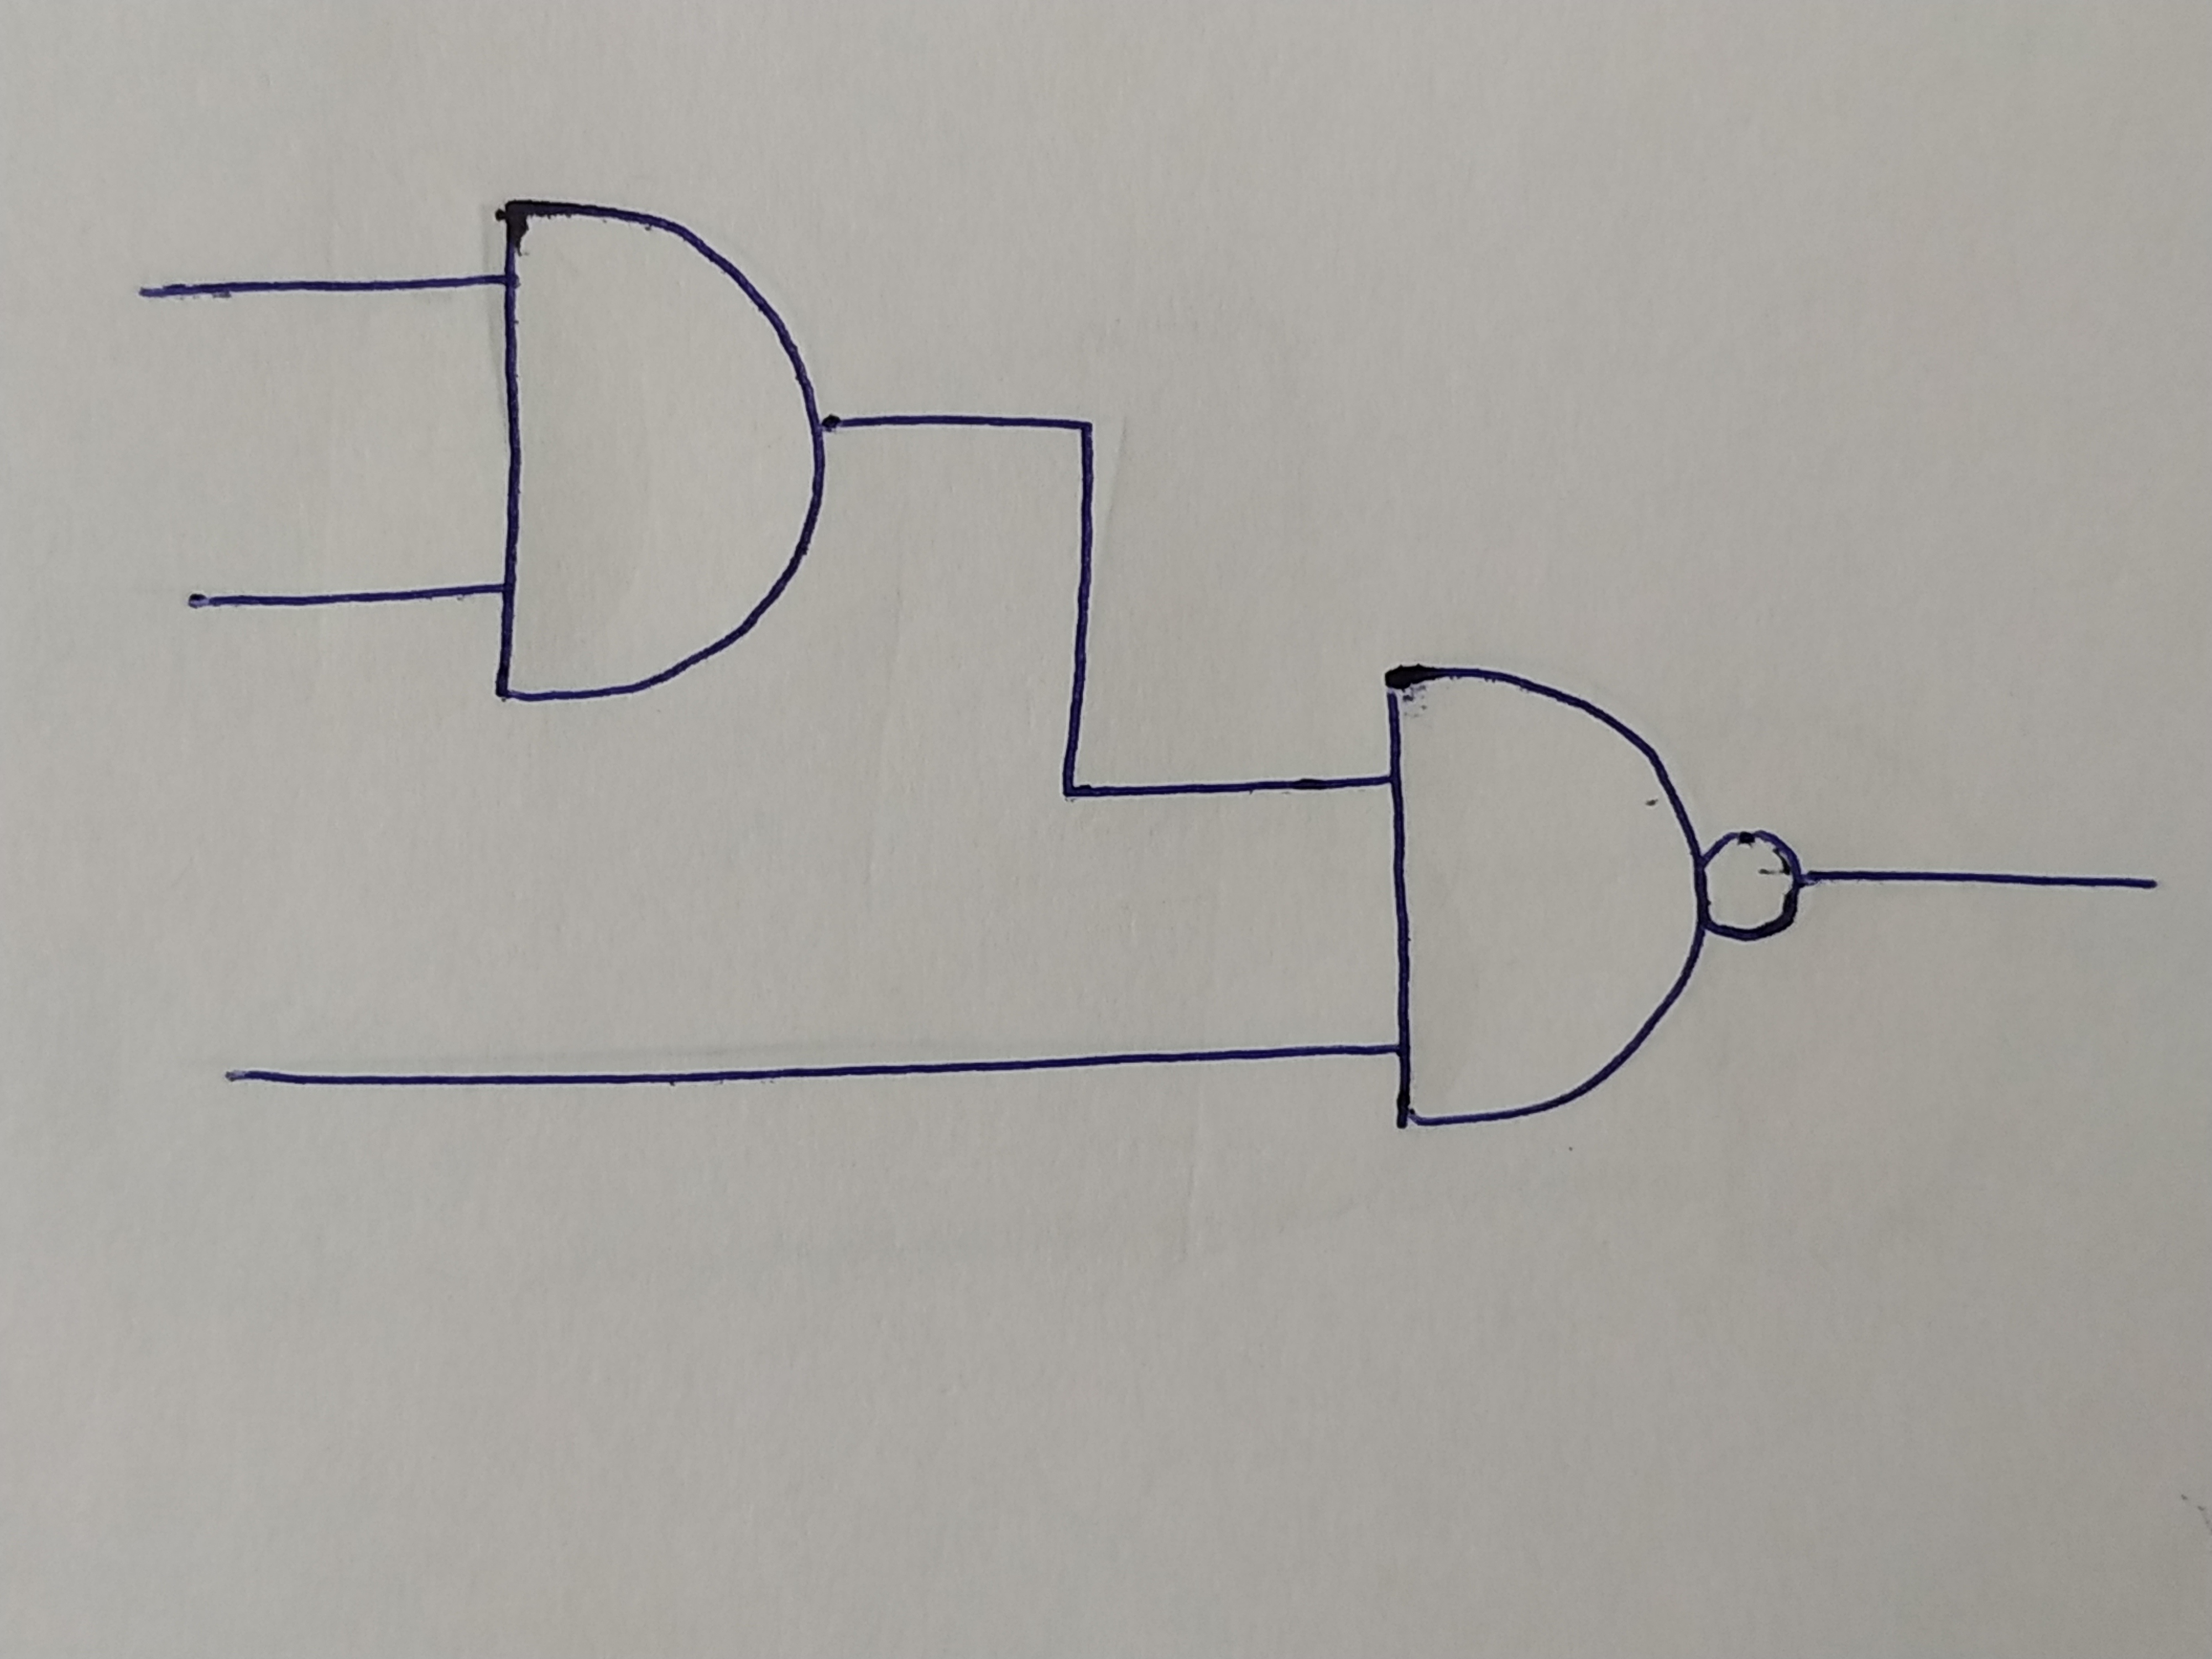and: (502, 202, 827, 704), (1376, 667, 1702, 1129)
not: (1705, 833, 1796, 941)
